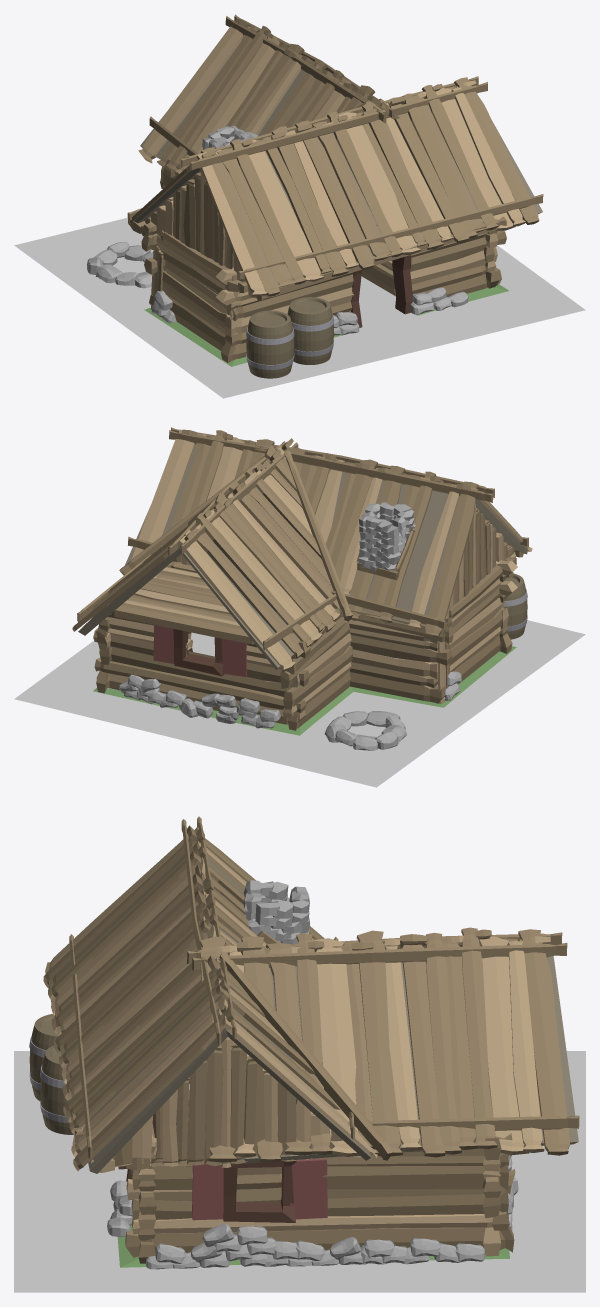
Rendered from uh_pioneer_house_01_A.fbx.
The picture shows the model from 3 angles, top to bottom: view 1: azimuth 30°, elevation 25°; view 2: azimuth 150°, elevation 25°; view 3: azimuth 270°, elevation 25°; orthographic projection. The views are drawn at different scales.
Parts seen in each view (by area): view 1: Cube_387, Plane, Cube_026, Cube_013, Cube_010, Cube_001, Cylinder_004, Cylinder_003, Cube_025, Cube_027, Cube_032, Plane_003 (+4 smaller); view 2: Cube_387, Cube_026, Plane, Cube_024, Cube_000, Cube_015, Cube_003, Cube_461, Cube_315, Cube_001, Cube_487, Cube_010 (+6 smaller); view 3: Cube_026, Cube_387, Plane, Cube_039, Cube_070, Cube_505, Cube_030, Cube_461, Cube_024, Cylinder_003, Cube_014, Cube_013 (+2 smaller).
Boxes of the visible parts, <box> form: Cube_387: <box>127,76,543,296</box>; Plane: <box>14,217,585,398</box>; Cube_026: <box>138,14,399,173</box>; Cube_013: <box>215,230,506,362</box>; Cube_010: <box>144,169,245,281</box>; Cube_001: <box>161,251,238,350</box>; Cylinder_004: <box>246,310,294,378</box>; Cylinder_003: <box>287,297,333,364</box>; Cube_025: <box>156,230,240,297</box>; Cube_027: <box>225,216,512,300</box>; Cube_032: <box>351,255,412,327</box>; Plane_003: <box>144,284,508,366</box>; Cube_387: <box>125,427,532,637</box>; Cube_026: <box>72,438,352,672</box>; Plane: <box>14,620,585,787</box>; Cube_024: <box>93,615,310,724</box>; Cube_000: <box>349,616,453,703</box>; Cube_015: <box>107,561,293,644</box>; Cube_003: <box>280,608,352,730</box>; Cube_461: <box>356,502,415,580</box>; Cube_315: <box>119,674,280,728</box>; Cube_001: <box>437,588,504,685</box>; Cube_487: <box>153,625,246,676</box>; Cube_010: <box>446,501,514,617</box>; Cube_026: <box>187,927,579,1165</box>; Cube_387: <box>43,816,377,1173</box>; Plane: <box>14,1051,585,1292</box>; Cube_039: <box>125,1133,515,1257</box>; Cube_070: <box>112,1037,361,1167</box>; Cube_505: <box>146,1223,484,1269</box>; Cube_030: <box>192,1158,327,1222</box>; Cube_461: <box>243,880,309,944</box>; Cube_024: <box>482,1138,509,1256</box>; Cylinder_003: <box>40,1045,73,1134</box>; Cube_014: <box>188,1089,281,1202</box>; Cube_013: <box>129,1124,156,1263</box>.
Bounding box in the file's own units: 2 × 1.05 × 2.
